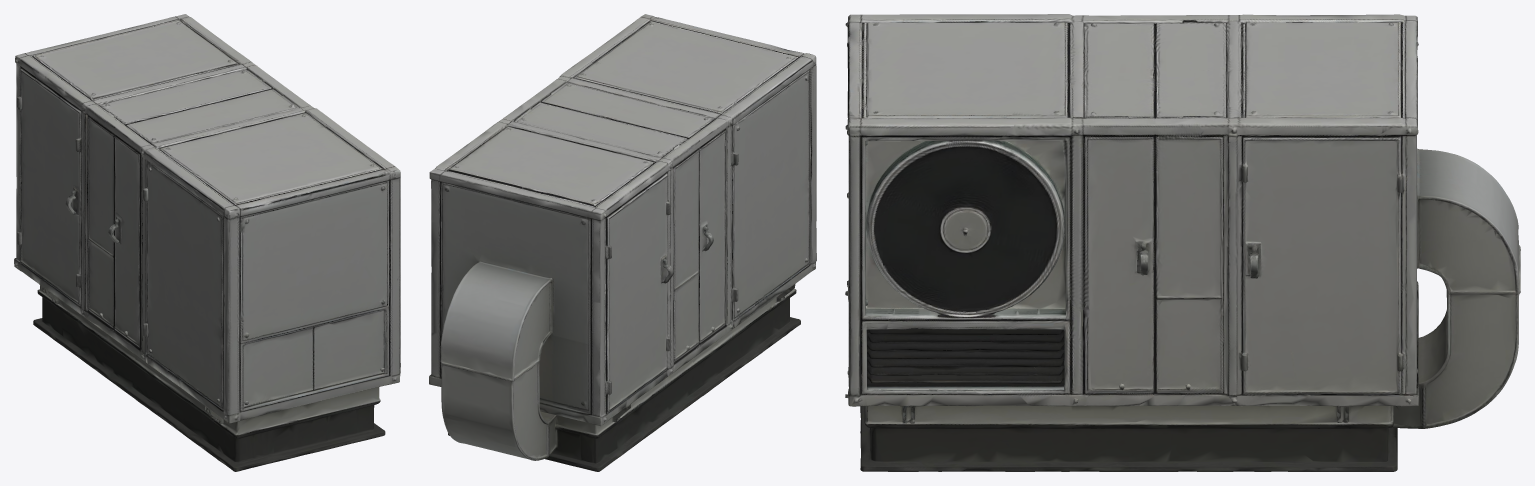
File: hvac3d.glb
3 views of the same model, side by side, from view 1: azimuth 30°, elevation 25°; view 2: azimuth 150°, elevation 25°; view 3: azimuth 270°, elevation 25° (orthographic). The views are drawn at different scales.
Parts seen in each view (by area): view 1: tripo_node_41b49211-e375-47b5-ad18-b9f09b733da8; view 2: tripo_node_41b49211-e375-47b5-ad18-b9f09b733da8; view 3: tripo_node_41b49211-e375-47b5-ad18-b9f09b733da8.
Boxes of the visible parts, box(x1,y1,x2,y2) form: tripo_node_41b49211-e375-47b5-ad18-b9f09b733da8: box(14, 14, 400, 471); tripo_node_41b49211-e375-47b5-ad18-b9f09b733da8: box(429, 14, 816, 471); tripo_node_41b49211-e375-47b5-ad18-b9f09b733da8: box(845, 14, 1520, 471).
Bounding box in the file's own units: 0.4306 × 0.5819 × 1.
1 material, 1 textured.
